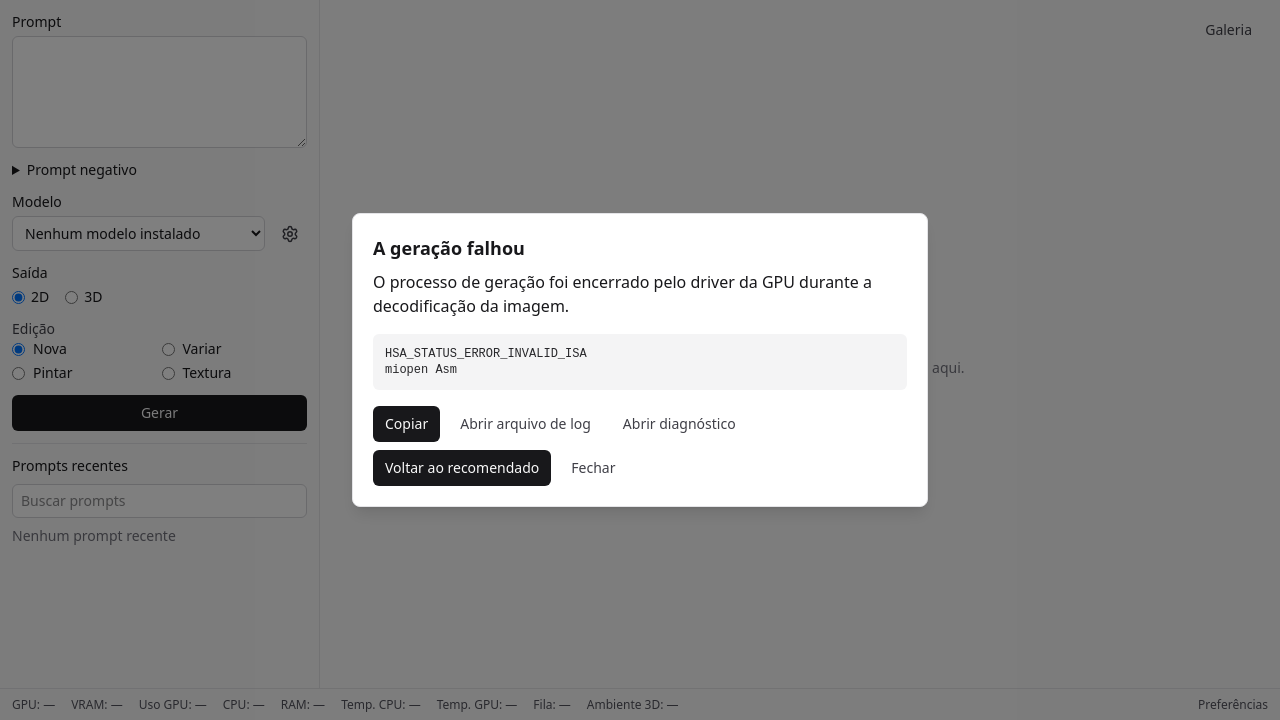
App com modal de erro › abre o diagnóstico e esconde o modal
What coordinates should you click on to do the following:
click the button "Abrir diagnóstico"
I would click on:
 (679, 424)
Its box is left=611, top=406, right=748, bottom=442.
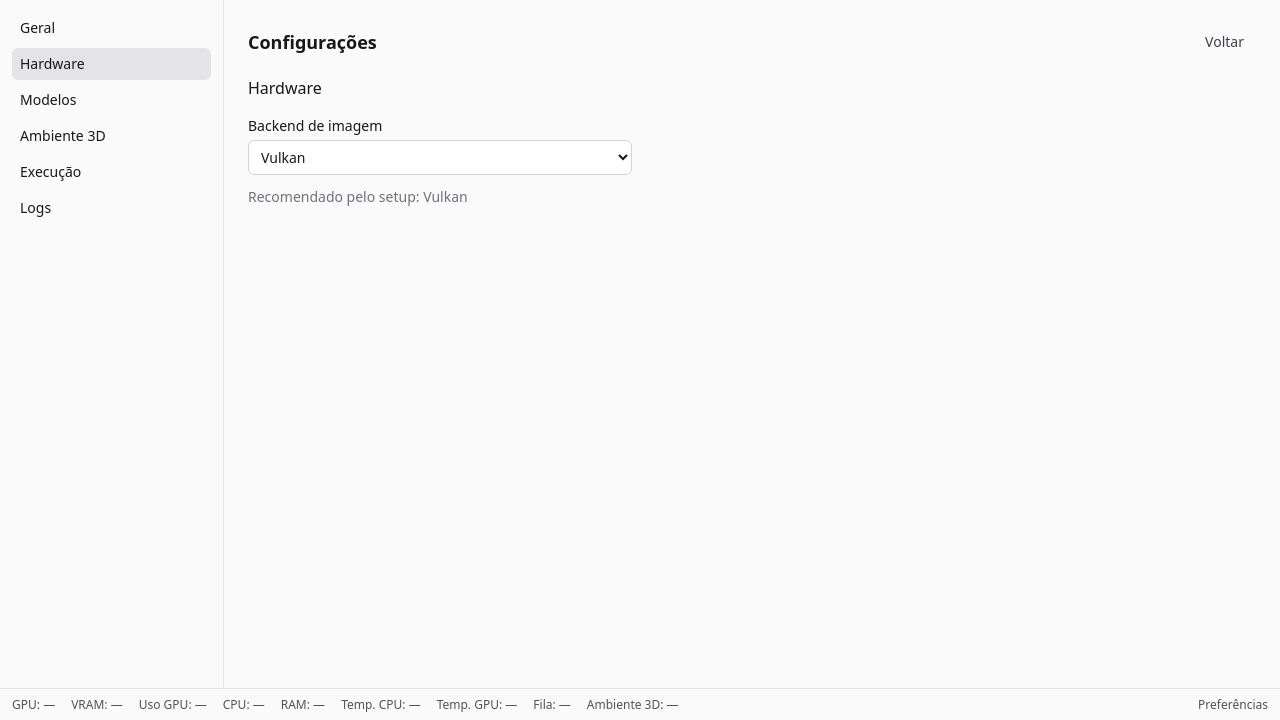
Expected: the dialog is gone
Expected: the heading "Hardware" is shown, left=248, top=77, right=322, bottom=99
